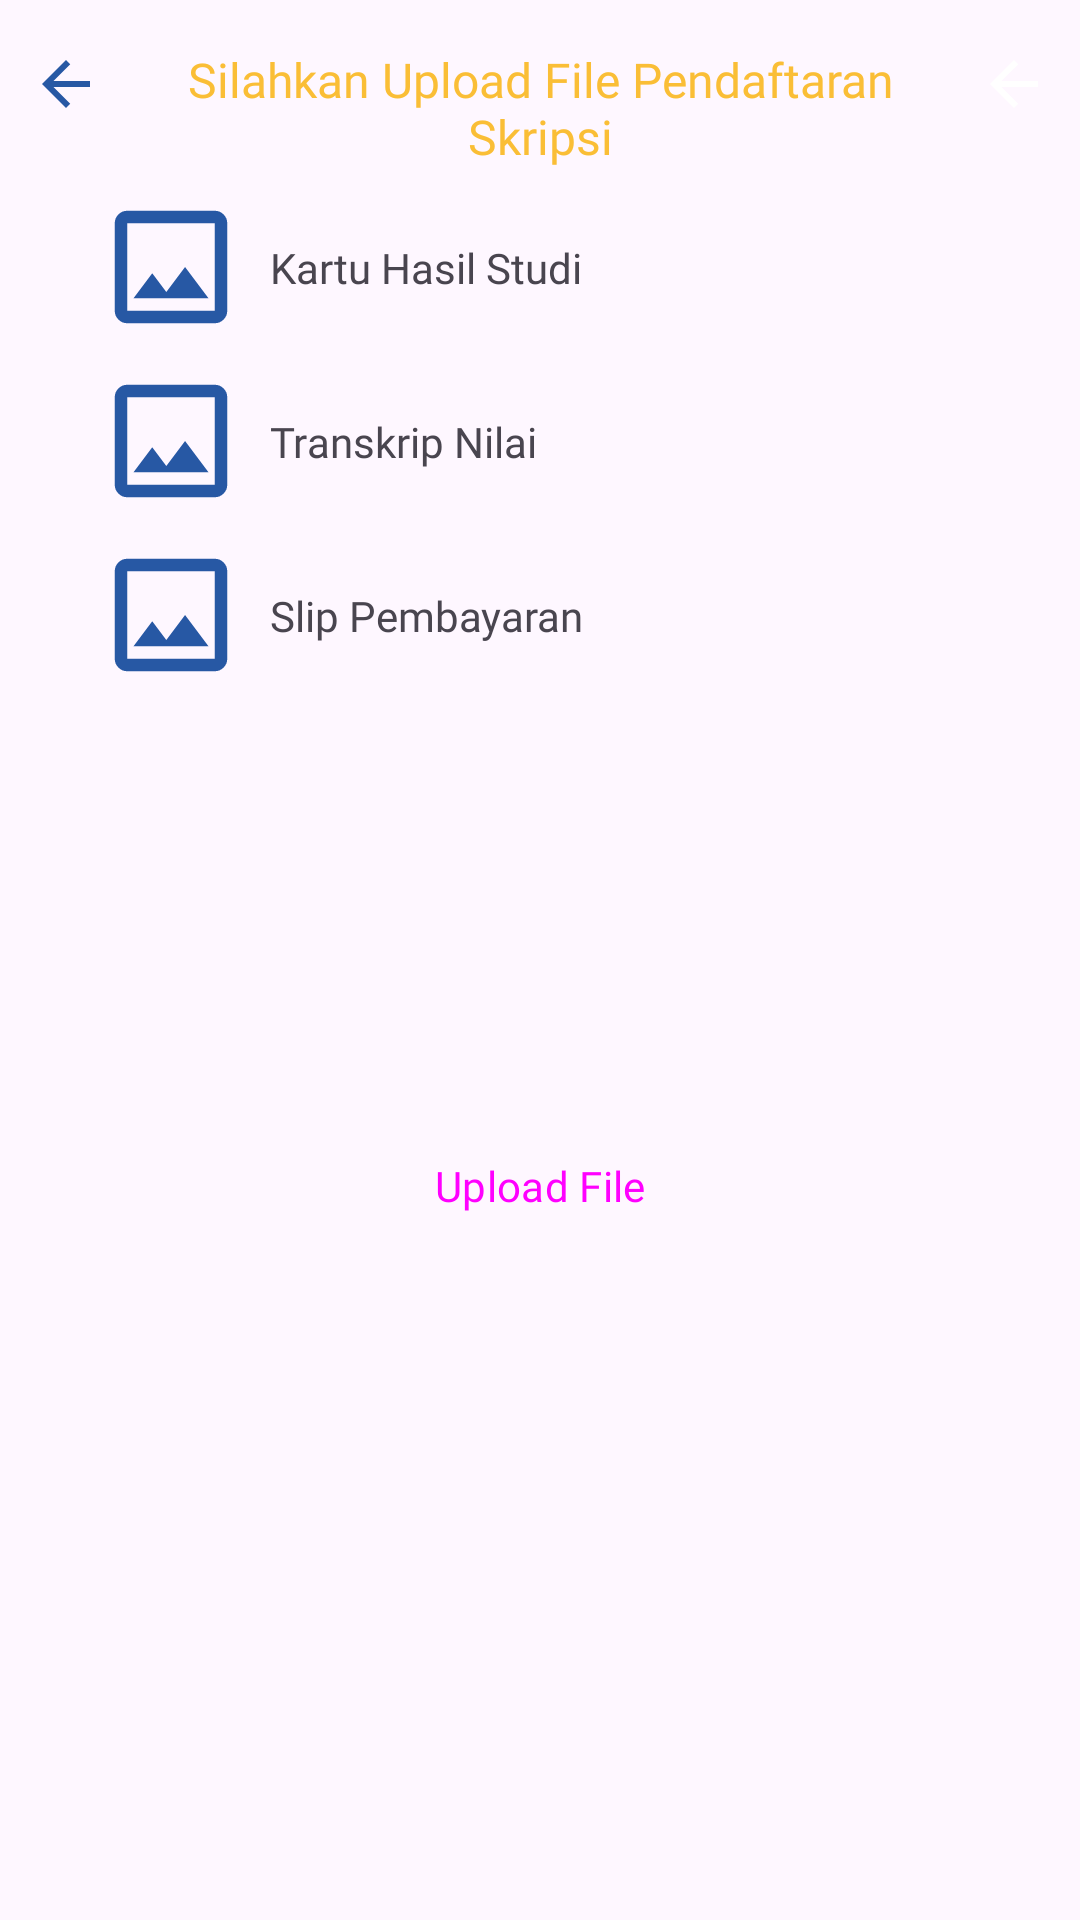

Named icons in this screenshot (1080×1920) and their centers, (x=x, y=y):
arrow back: (x=66, y=84)
